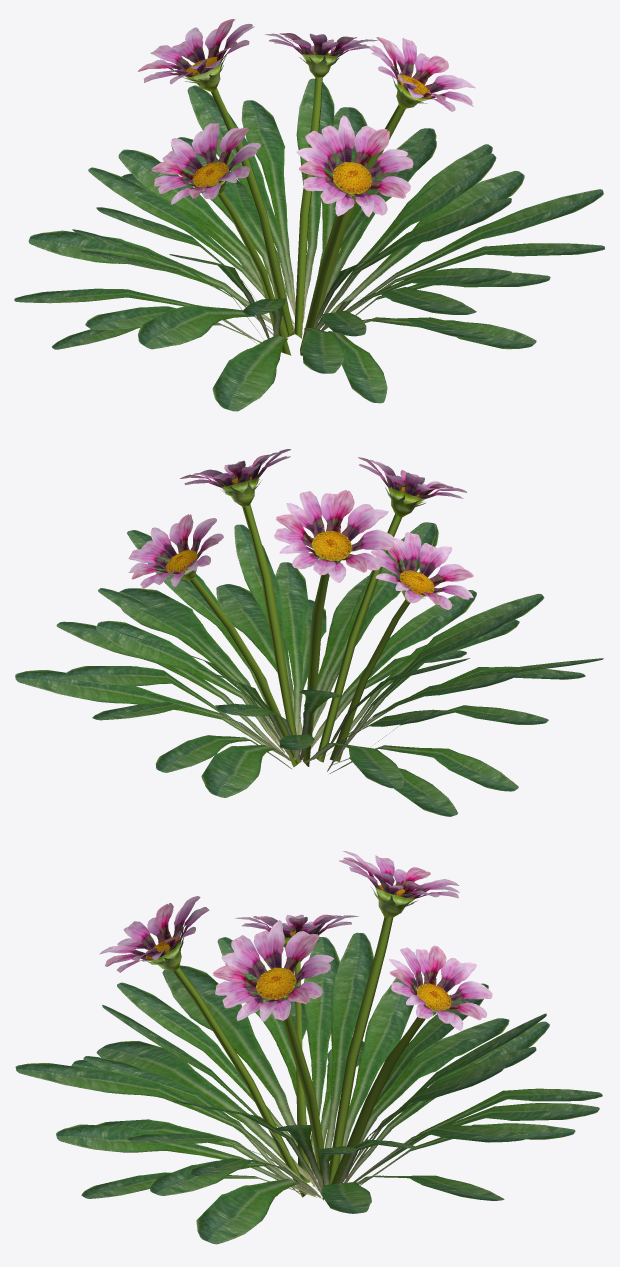
File: Gazania3B-bloomer.fbx
The picture shows the model from 3 angles, top to bottom: view 1: azimuth 30°, elevation 25°; view 2: azimuth 150°, elevation 25°; view 3: azimuth 270°, elevation 25°; orthographic projection. The views are drawn at different scales.
Visible parts, largest first — view 1: Gazania3B-bloomer; view 2: Gazania3B-bloomer; view 3: Gazania3B-bloomer.
Boxes of the visible parts, x1=… form: Gazania3B-bloomer: x1=14, y1=19, x2=604, y2=411; Gazania3B-bloomer: x1=15, y1=449, x2=603, y2=816; Gazania3B-bloomer: x1=15, y1=851, x2=602, y2=1244.
Bounding box in the file's own units: 89.35 × 53.75 × 89.45.
